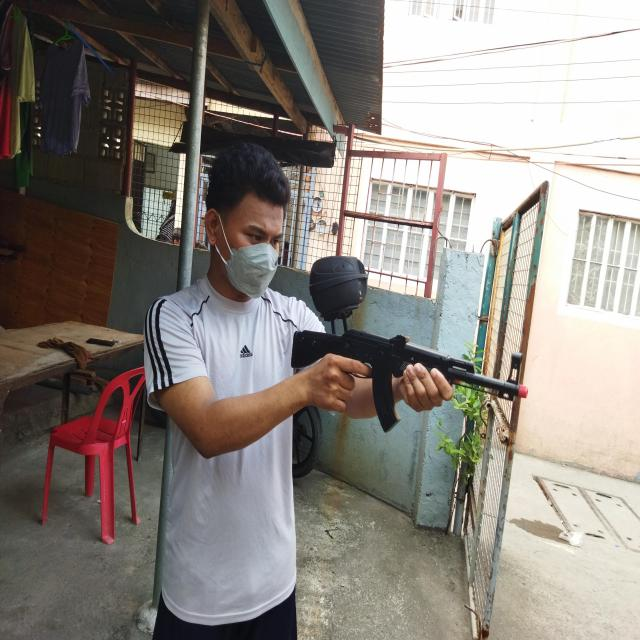rifle: (291, 329, 528, 433)
